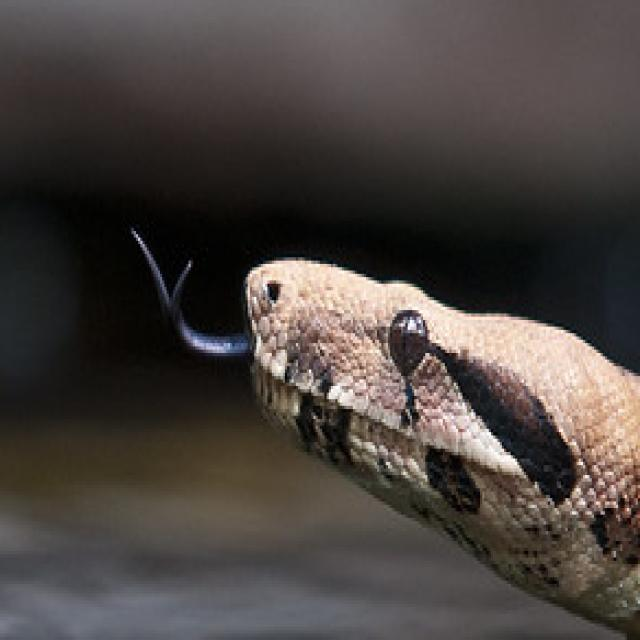Snake: (127, 221, 640, 640)
